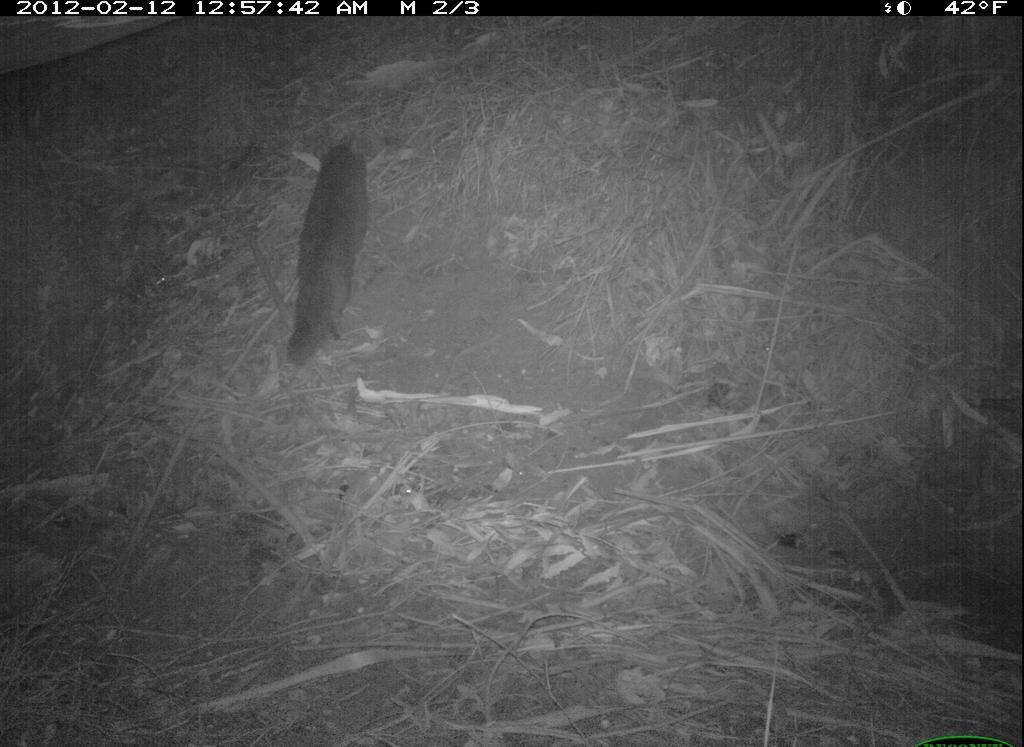cat: (277, 130, 382, 378)
